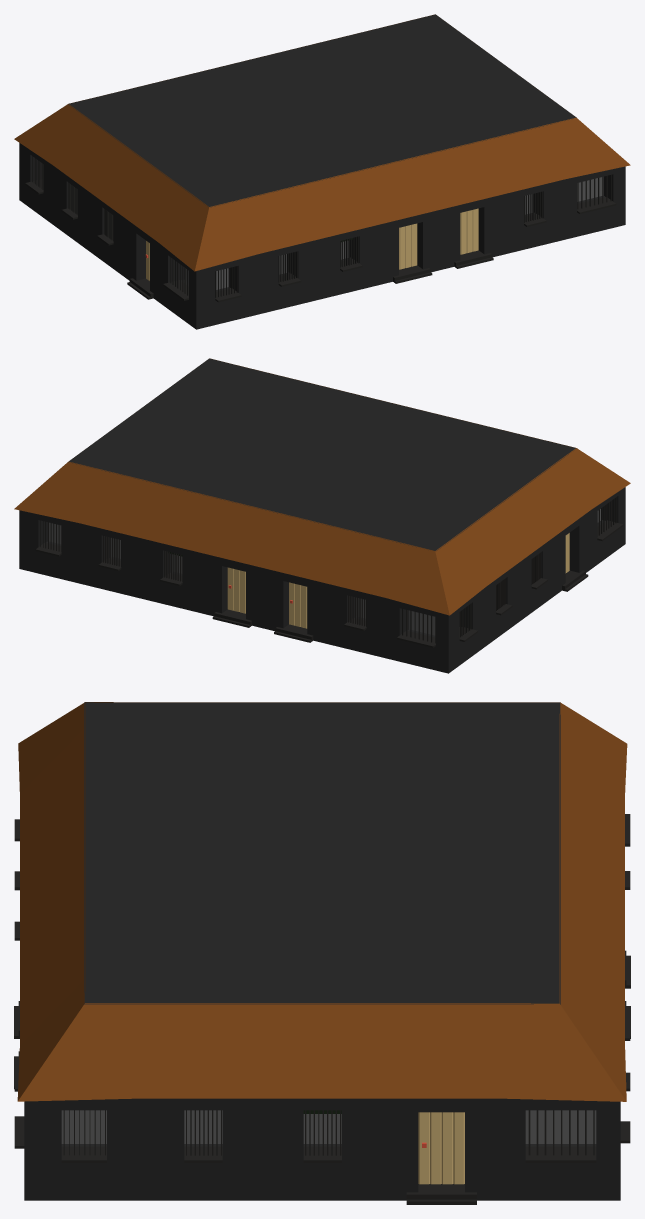
Rendered from Casa_Procedural_6.fbx.
The picture shows the model from 3 angles, top to bottom: view 1: azimuth 30°, elevation 25°; view 2: azimuth 150°, elevation 25°; view 3: azimuth 270°, elevation 25°; orthographic projection. The views are drawn at different scales.
Parts seen in each view (by area): view 1: 6; view 2: 6; view 3: 6.
Part boxes in pixels (x1,y1,x2,y2): 6: [14, 14, 630, 329]; 6: [14, 358, 630, 673]; 6: [14, 702, 630, 1204].
Bounding box in the file's own units: 718 × 159 × 518.
